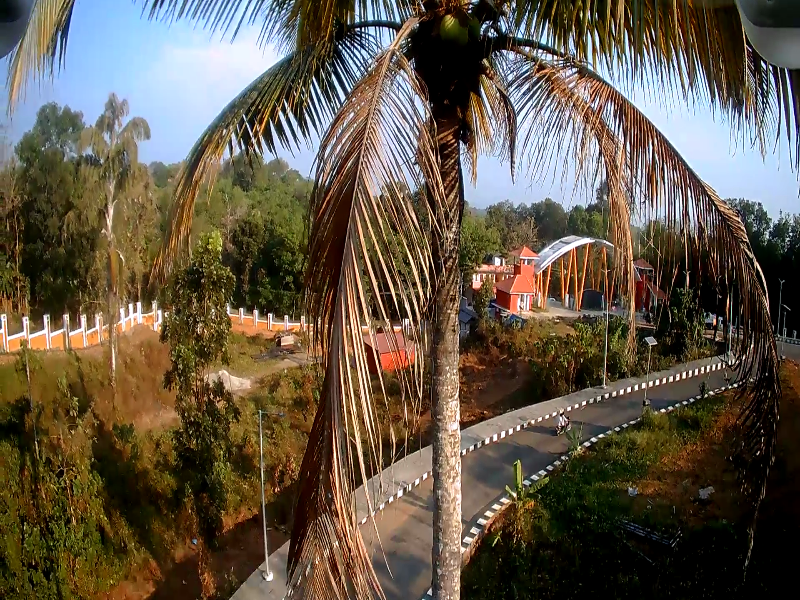coconut: (438, 12, 459, 40)
